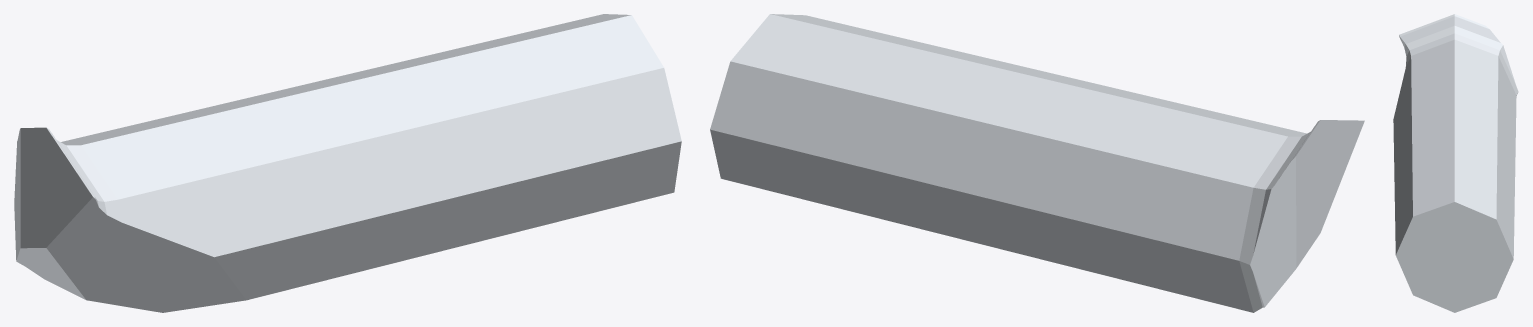
The model's file is Ruined_Pillar.fbx.
The picture shows the model from 3 angles, left to right: view 1: azimuth 30°, elevation 25°; view 2: azimuth 150°, elevation 25°; view 3: azimuth 270°, elevation 25°; orthographic projection. The views are drawn at different scales.
Visible parts, largest first — view 1: Ruined Pillar; view 2: Ruined Pillar; view 3: Ruined Pillar.
Part boxes in pixels (x1=…): Ruined Pillar: x1=14, y1=14, x2=681, y2=312; Ruined Pillar: x1=710, y1=14, x2=1364, y2=312; Ruined Pillar: x1=1393, y1=14, x2=1518, y2=312.
Bounding box in the file's own units: 383 × 130 × 116.
